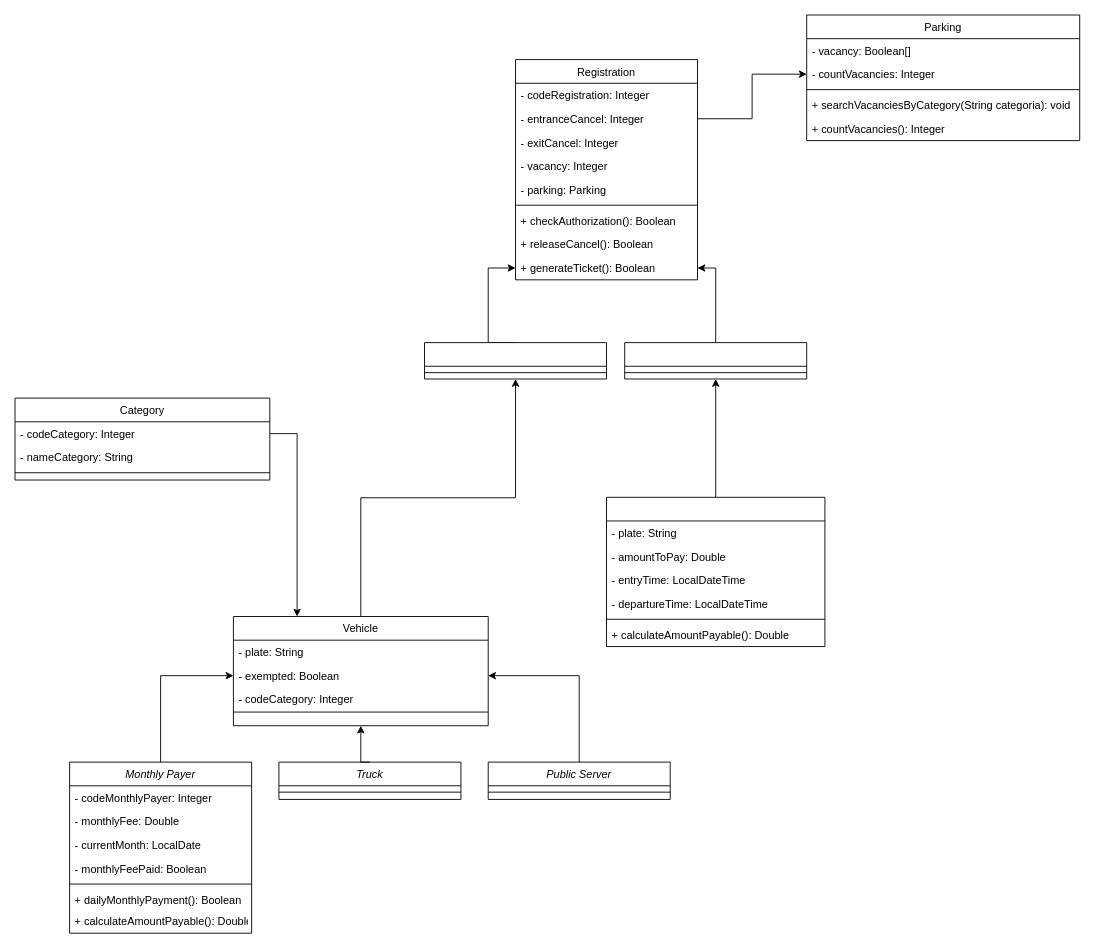
Some shapes in this 1095 by 948 pixel diagram are drawn without their labels. Each missing label, with the box of its shape:
Detached: (606, 496, 825, 647)
Register: (424, 342, 607, 379)
Ticket: (624, 342, 807, 379)
